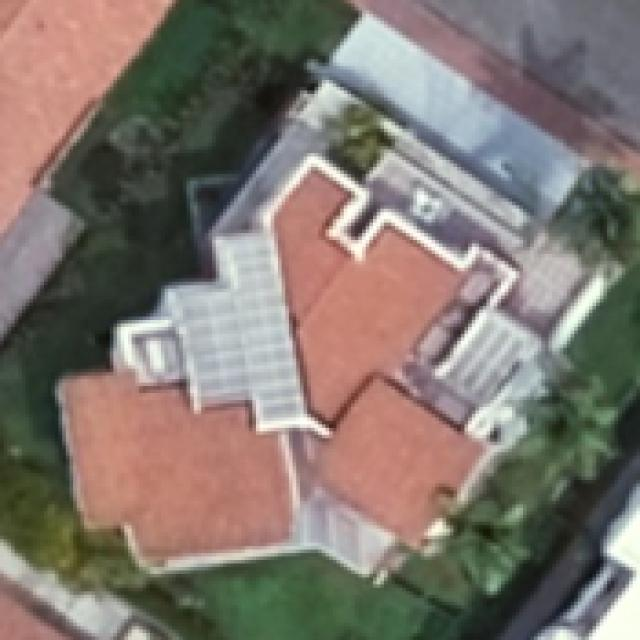Batiment: (59, 168, 513, 564)
